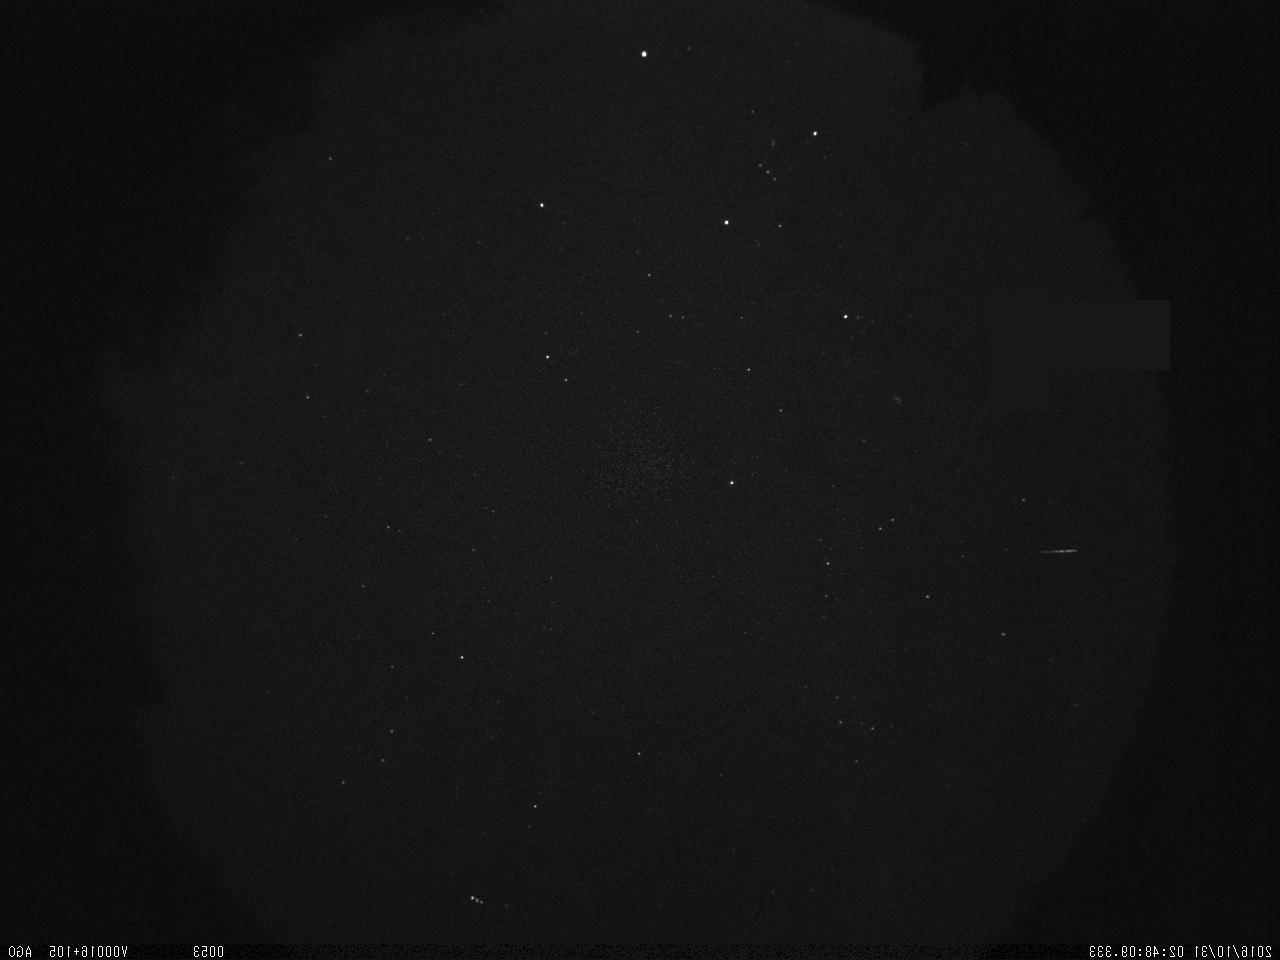meteor: (1025, 535, 1097, 570)
